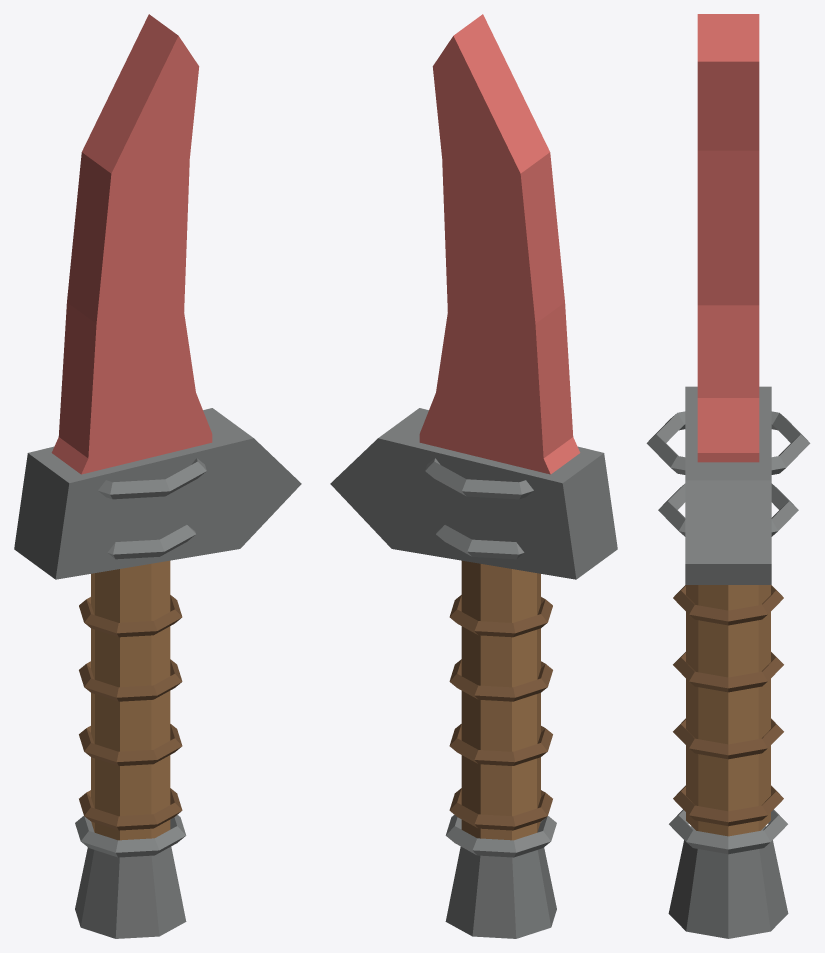
File: t5_skinning_knife.glb
3 renders of one model, left to right at view 1: azimuth 30°, elevation 25°; view 2: azimuth 150°, elevation 25°; view 3: azimuth 270°, elevation 25°, orthographic. The views are drawn at different scales.
Parts seen in each view (by area): view 1: CurvedSkinningBlade, BladeGuard, WoodHandle, BottomPommel, PommelBand, GuardRing, LeatherWrap1, LeatherWrap3, LeatherWrap4, LeatherWrap2, BladeCollar; view 2: CurvedSkinningBlade, BladeGuard, WoodHandle, BottomPommel, PommelBand, GuardRing, LeatherWrap1, LeatherWrap3, LeatherWrap4, LeatherWrap2, BladeCollar; view 3: CurvedSkinningBlade, WoodHandle, BladeGuard, BottomPommel, GuardRing, PommelBand, LeatherWrap1, LeatherWrap2, LeatherWrap3, LeatherWrap4, BladeCollar.
Part boxes in pixels (x1=…): CurvedSkinningBlade: x1=51, y1=14, x2=212, y2=474; BladeGuard: x1=14, y1=408, x2=301, y2=579; WoodHandle: x1=91, y1=560, x2=170, y2=840; BottomPommel: x1=75, y1=846, x2=186, y2=938; PommelBand: x1=75, y1=815, x2=186, y2=857; GuardRing: x1=98, y1=458, x2=206, y2=499; LeatherWrap1: x1=79, y1=788, x2=182, y2=830; LeatherWrap3: x1=79, y1=659, x2=182, y2=701; LeatherWrap4: x1=79, y1=595, x2=182, y2=637; LeatherWrap2: x1=79, y1=724, x2=182, y2=765; BladeCollar: x1=107, y1=525, x2=195, y2=559; CurvedSkinningBlade: x1=419, y1=14, x2=580, y2=474; BladeGuard: x1=330, y1=408, x2=617, y2=579; WoodHandle: x1=461, y1=560, x2=540, y2=840; BottomPommel: x1=445, y1=846, x2=556, y2=938; PommelBand: x1=445, y1=815, x2=556, y2=857; GuardRing: x1=425, y1=458, x2=533, y2=499; LeatherWrap1: x1=449, y1=788, x2=552, y2=830; LeatherWrap3: x1=449, y1=659, x2=552, y2=701; LeatherWrap4: x1=449, y1=595, x2=552, y2=637; LeatherWrap2: x1=449, y1=724, x2=552, y2=765; BladeCollar: x1=436, y1=525, x2=524, y2=559; CurvedSkinningBlade: x1=697, y1=14, x2=759, y2=462; WoodHandle: x1=686, y1=585, x2=770, y2=836; BladeGuard: x1=685, y1=386, x2=771, y2=584; BottomPommel: x1=668, y1=826, x2=788, y2=938; GuardRing: x1=646, y1=411, x2=810, y2=474; PommelBand: x1=669, y1=809, x2=787, y2=854; LeatherWrap1: x1=673, y1=785, x2=783, y2=826; LeatherWrap2: x1=673, y1=718, x2=783, y2=759; LeatherWrap3: x1=673, y1=652, x2=783, y2=692; LeatherWrap4: x1=673, y1=585, x2=783, y2=625; BladeCollar: x1=658, y1=483, x2=798, y2=536.
Bounding box in the file's own units: 0.36 × 1.23 × 0.2.
